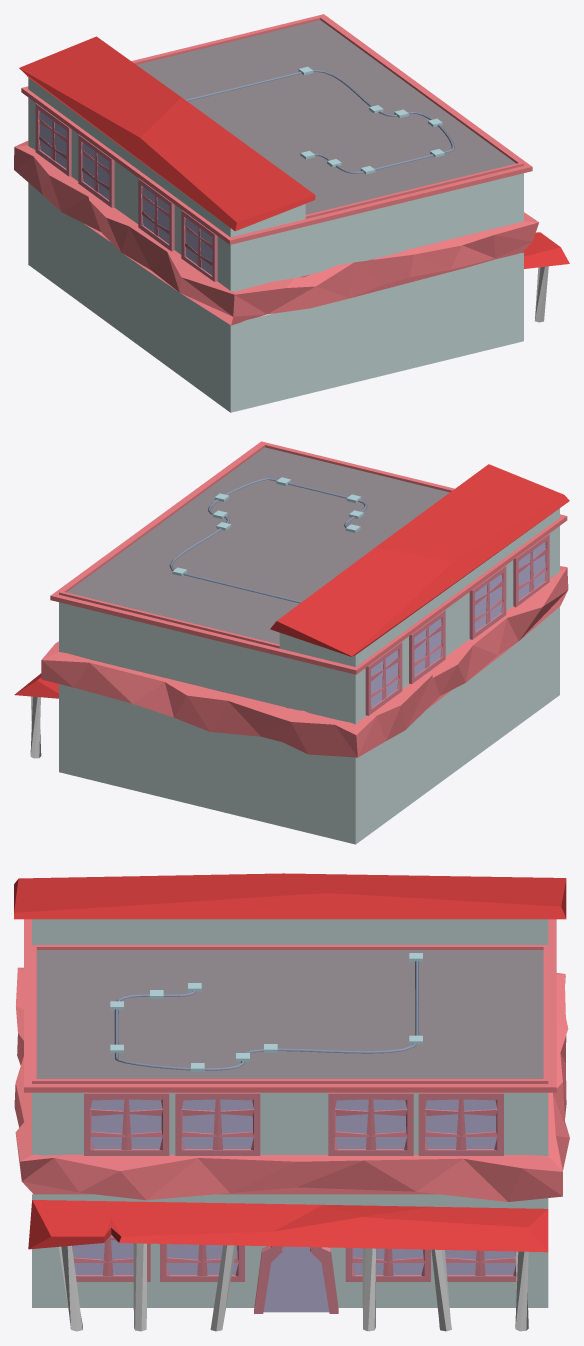
File: AR_Building_1.fbx
The picture shows the model from 3 angles, top to bottom: view 1: azimuth 30°, elevation 25°; view 2: azimuth 150°, elevation 25°; view 3: azimuth 270°, elevation 25°; orthographic projection. The views are drawn at different scales.
Parts seen in each view (by area): view 1: Main.001, Roof, Überdach, Main.002, Main1, Window, Window.002, Window.001, Window.003, Cable, Glas.003, Glas.001 (+4 smaller); view 2: Main.001, Roof, Überdach, Main.002, Main1, Window.002, Window, Window.001, Window.003, Cable, Glas.003, Glas.001 (+4 smaller); view 3: Roof, Überdach, Main.001, Main.002, Main1, Pillars, Plane, Window.007, Window.004, Window.006, Window.005, Glas.004 (+14 smaller).
Part boxes in pixels (x1=…): Main.001: x1=28, y1=78, x2=523, y2=412; Roof: x1=137, y1=20, x2=515, y2=214; Überdach: x1=19, y1=36, x2=569, y2=268; Main.002: x1=14, y1=141, x2=538, y2=325; Main1: x1=21, y1=14, x2=532, y2=244; Window: x1=35, y1=103, x2=71, y2=176; Window.002: x1=138, y1=178, x2=174, y2=251; Window.001: x1=78, y1=134, x2=114, y2=207; Window.003: x1=181, y1=210, x2=217, y2=281; Cable: x1=185, y1=69, x2=454, y2=173; Glas.003: x1=185, y1=218, x2=212, y2=275; Glas.001: x1=82, y1=143, x2=109, y2=199; Main.001: x1=59, y1=508, x2=559, y2=844; Roof: x1=67, y1=447, x2=449, y2=644; Überdach: x1=14, y1=464, x2=569, y2=698; Main.002: x1=41, y1=566, x2=568, y2=757; Main1: x1=50, y1=441, x2=567, y2=674; Window.002: x1=469, y1=565, x2=506, y2=639; Window: x1=365, y1=642, x2=402, y2=715; Window.001: x1=409, y1=610, x2=445, y2=684; Window.003: x1=513, y1=534, x2=549, y2=607; Cable: x1=169, y1=478, x2=367, y2=603; Glas.003: x1=518, y1=542, x2=545, y2=599; Glas.001: x1=414, y1=618, x2=441, y2=675; Roof: x1=36, y1=950, x2=543, y2=1078; Überdach: x1=14, y1=873, x2=566, y2=1252; Main.001: x1=32, y1=919, x2=548, y2=1307; Main.002: x1=14, y1=967, x2=569, y2=1201; Main1: x1=24, y1=919, x2=556, y2=1092; Pillars: x1=58, y1=1243, x2=528, y2=1331; Plane: x1=263, y1=1246, x2=328, y2=1312; Window.007: x1=84, y1=1092, x2=169, y2=1155; Window.004: x1=418, y1=1092, x2=503, y2=1155; Window.006: x1=175, y1=1092, x2=260, y2=1155; Window.005: x1=328, y1=1092, x2=413, y2=1155; Glas.004: x1=425, y1=1099, x2=497, y2=1148.
Bounding box in the file's own units: 2617 × 1517 × 2789.
